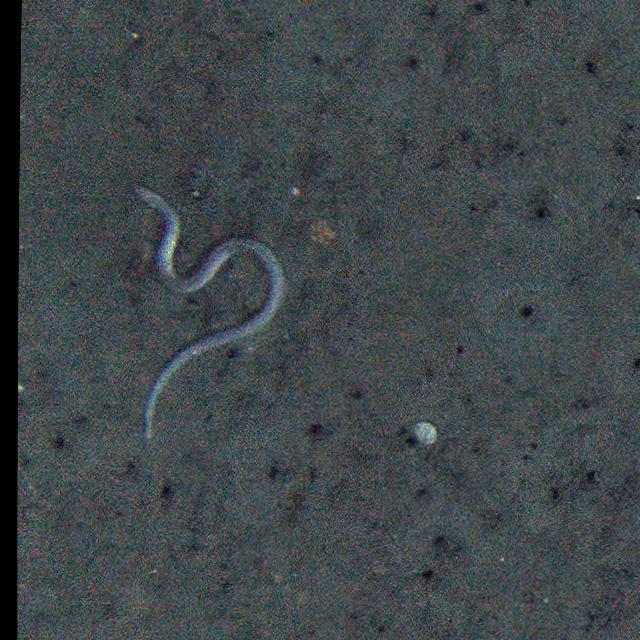eel: (131, 181, 285, 443)
